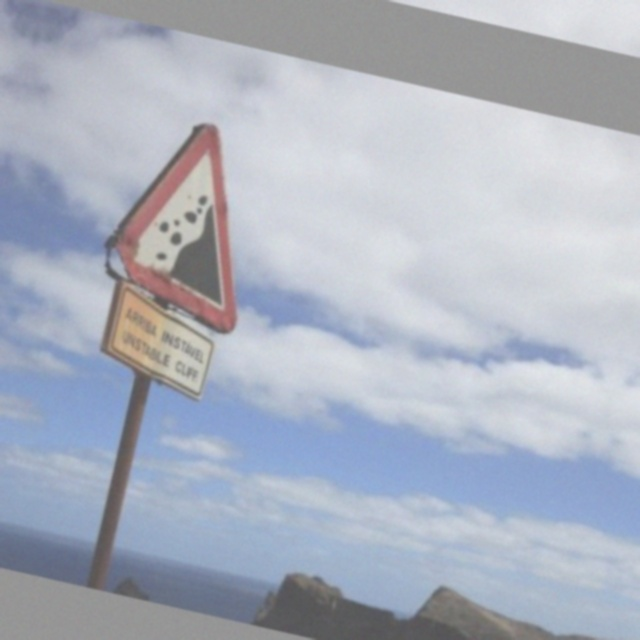Falling_Rocks: (98, 106, 280, 324)
